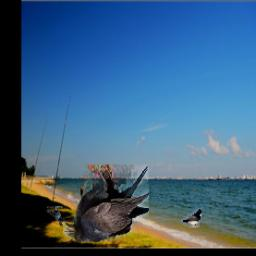Crow: (64, 166, 150, 243), (48, 206, 64, 225)
Swallow: (181, 208, 201, 228)
